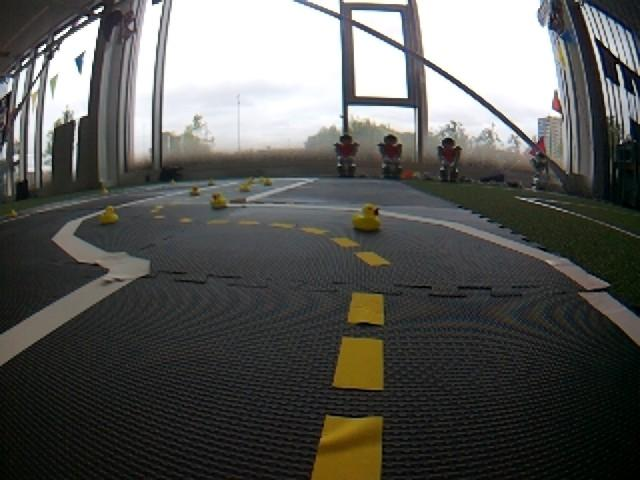Duckies: (350, 204, 384, 231), (98, 205, 119, 223), (209, 192, 227, 208), (239, 183, 250, 192), (189, 187, 201, 195), (9, 209, 19, 216), (264, 179, 273, 186), (247, 178, 254, 184), (102, 187, 108, 193), (208, 180, 215, 185), (169, 179, 176, 184)
